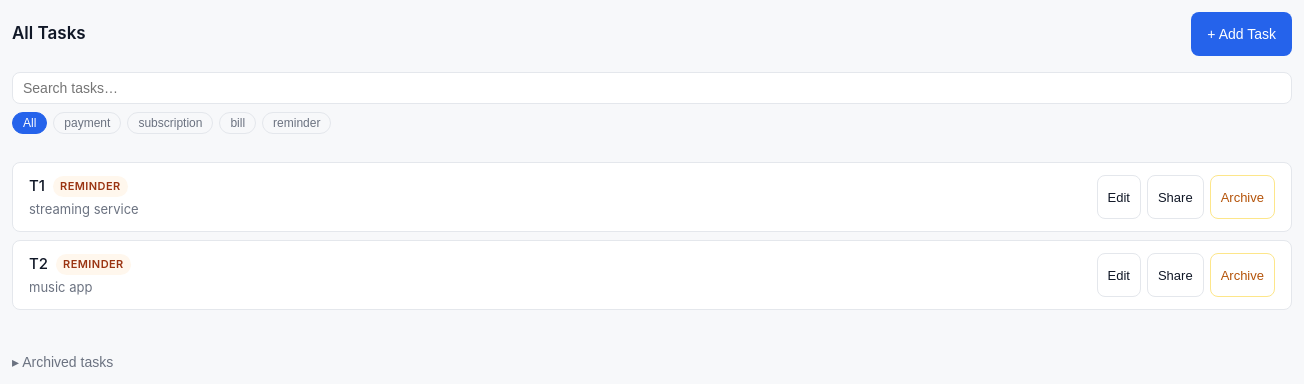
it: ManageView › filters tasks by description substring
Type "music" into the search field labelled "Search tasks" at coordinates (652, 88), box [12, 72, 1292, 104]
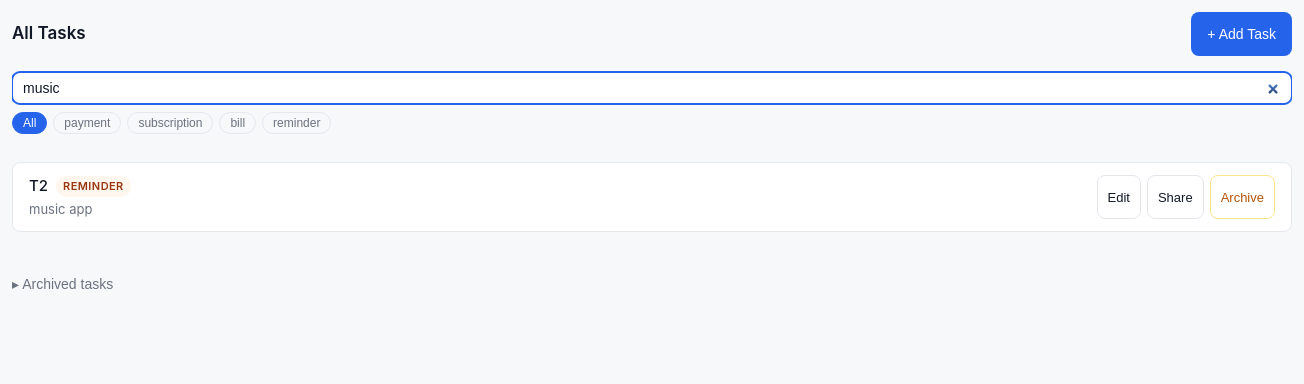
Expected: the text "T2" is shown, [29, 175, 48, 198]
Expected: the text "T1" is gone
